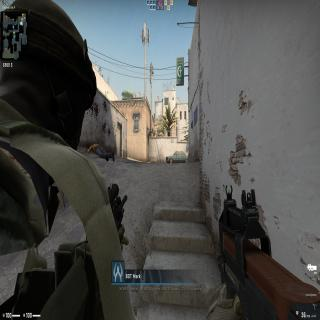CT-Head: (8, 0, 94, 151)
